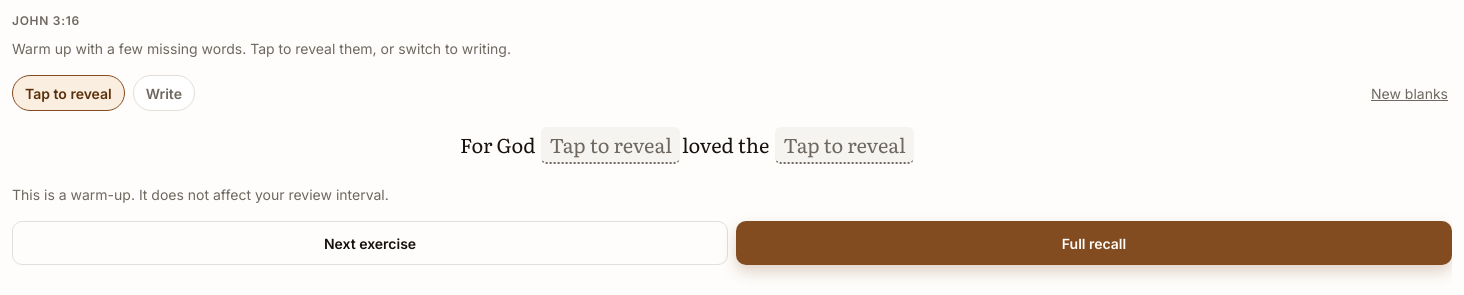
Scenario: VerseScaffold › offers a fresh blank pattern on request
The image size is (1464, 295).
Click the 1st button with test id "scaffold-blank" at (611, 146), box [542,127,680,164]
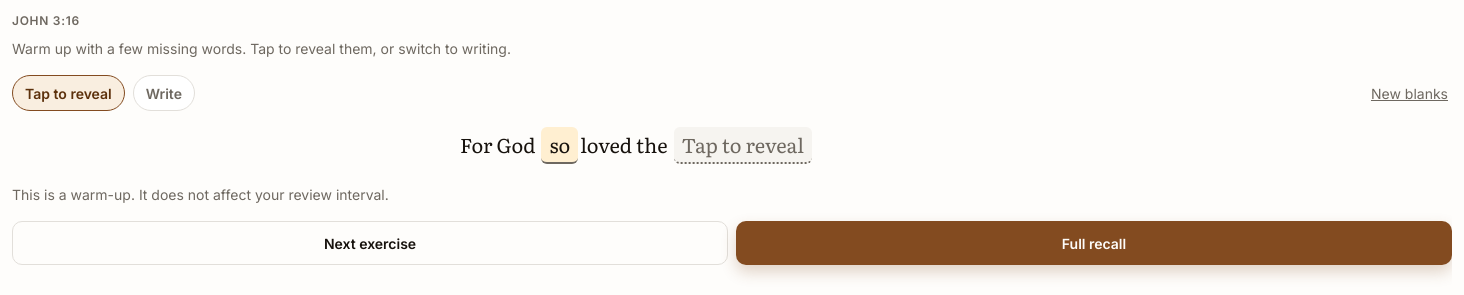
Expected: the element with test id "scaffold-blank" does not show "Tap to reveal"
Click the button with test id "randomize-blanks" at (1410, 93), box [1367,75,1452,111]
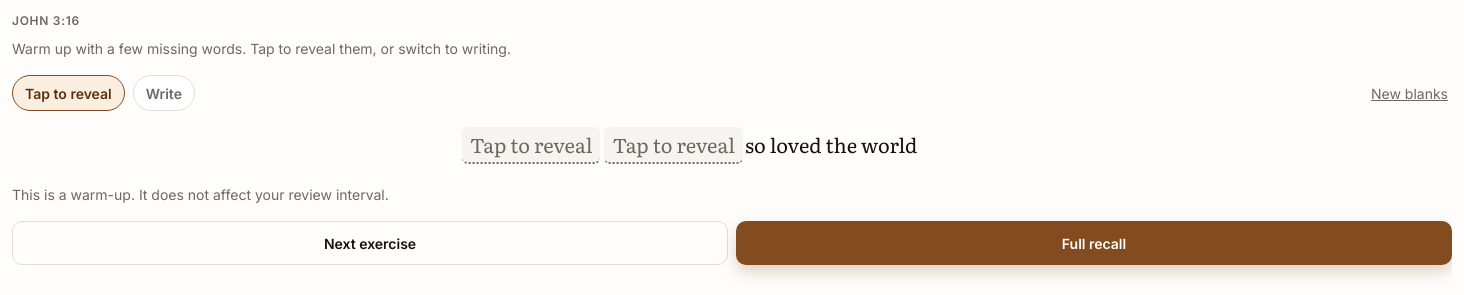
Expected: the 2nd button with test id "scaffold-blank" reads "Tap to reveal", [462,127,600,164]
